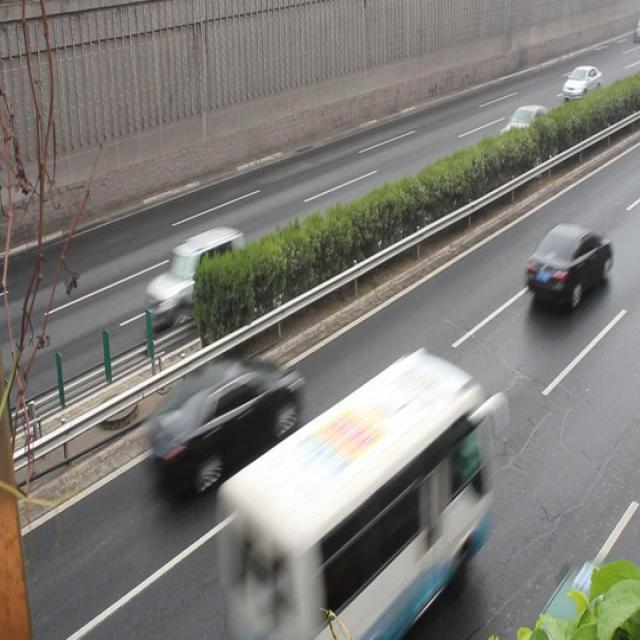car: (148, 359, 299, 490), (142, 227, 245, 326), (522, 223, 611, 307), (494, 106, 552, 163), (560, 64, 601, 105)
van: (210, 348, 488, 640)
